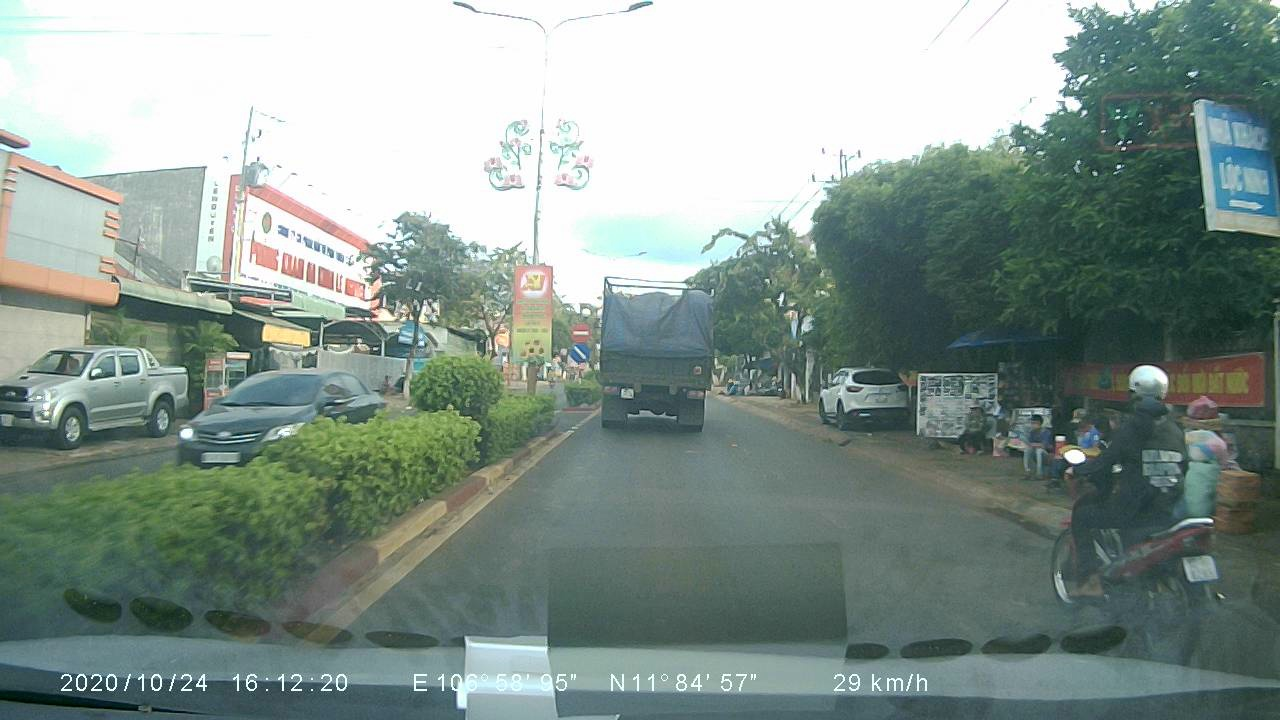Cam di nguoc chieu: (568, 318, 591, 340)
Huong di phai re phai: (568, 343, 591, 365)
